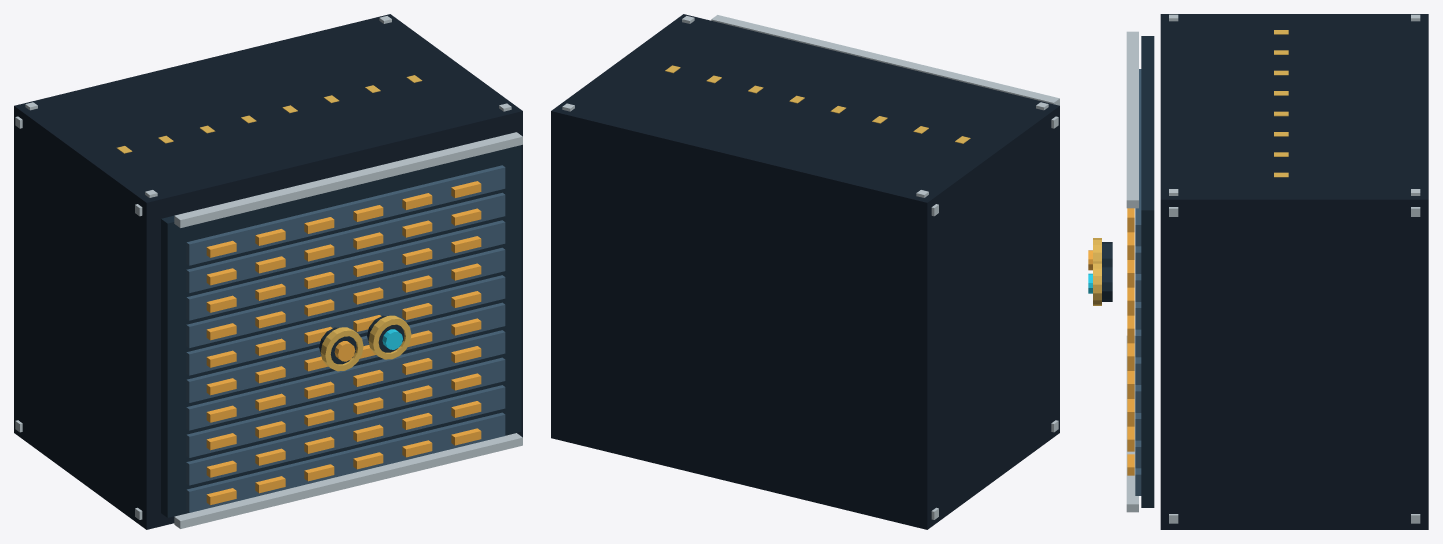
Rendered from 09_L81_DigitalFaultInjectionController.fbx.
3 renders of one model, left to right at view 1: azimuth 30°, elevation 25°; view 2: azimuth 150°, elevation 25°; view 3: azimuth 270°, elevation 25°, orthographic.
Visible parts, largest first — view 1: DigitalFaultInjectionController; view 2: DigitalFaultInjectionController; view 3: DigitalFaultInjectionController.
Part boxes in pixels (left/top/right/bottom): DigitalFaultInjectionController: left=14, top=14, right=522, bottom=529; DigitalFaultInjectionController: left=551, top=14, right=1059, bottom=529; DigitalFaultInjectionController: left=1088, top=14, right=1428, bottom=529.
Bounding box in the file's own units: 120 × 99.8 × 91.45.
